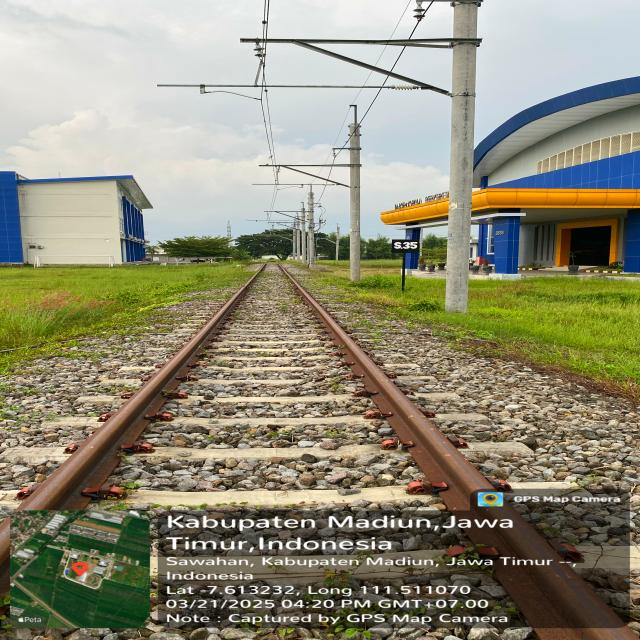rail-detection: (276, 264, 638, 640), (18, 264, 267, 510)
